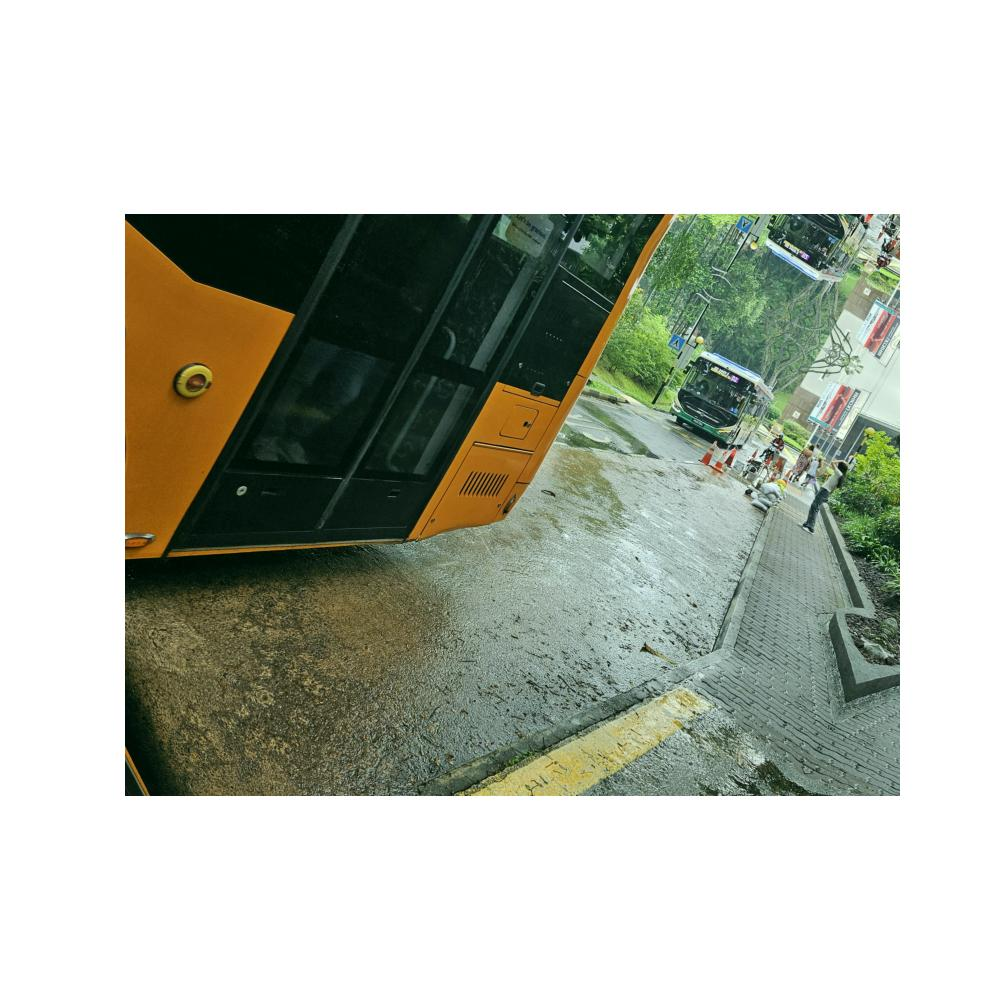bus: (126, 215, 678, 569), (674, 353, 772, 452)
